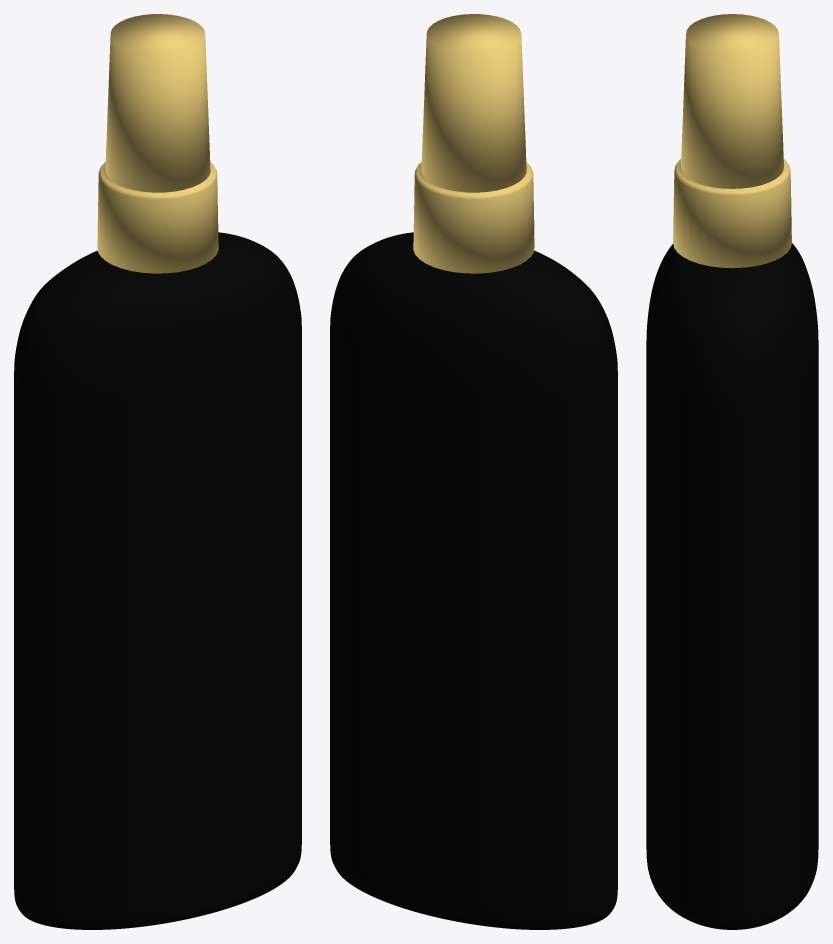
File: scroll-bottle.glb
3 views of the same model, side by side, from view 1: azimuth 30°, elevation 25°; view 2: azimuth 150°, elevation 25°; view 3: azimuth 270°, elevation 25° (orthographic). The views are drawn at different scales.
Parts seen in each view (by area): view 1: Body_EXPORT.001, Cap_EXPORT, Nozzle_EXPORT; view 2: Body_EXPORT.001, Cap_EXPORT, Nozzle_EXPORT; view 3: Body_EXPORT.001, Cap_EXPORT, Nozzle_EXPORT.
Part boxes in pixels (x1,y1,x2,y2): Body_EXPORT.001: [14, 232, 301, 929]; Cap_EXPORT: [105, 14, 210, 192]; Nozzle_EXPORT: [97, 162, 218, 273]; Body_EXPORT.001: [330, 232, 617, 929]; Cap_EXPORT: [421, 14, 526, 192]; Nozzle_EXPORT: [413, 162, 534, 273]; Body_EXPORT.001: [646, 243, 818, 929]; Cap_EXPORT: [681, 14, 783, 188]; Nozzle_EXPORT: [673, 159, 791, 268].
Size of the model in its own units: 0.0568 by 0.1686 by 0.0315.
4 materials, 1 textured.
